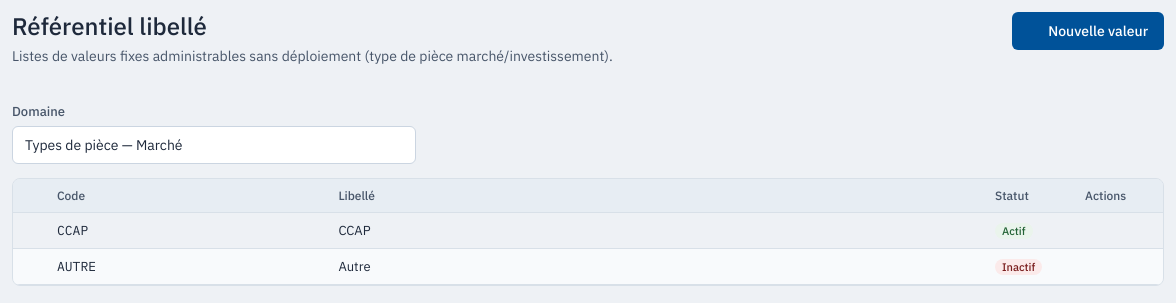
Test: LibelleReferentiel › bascule sur le domaine investissement au changement de sélecteur
Click the button with aria-label "Domaine" at (104, 145), box [12,126,416,164]
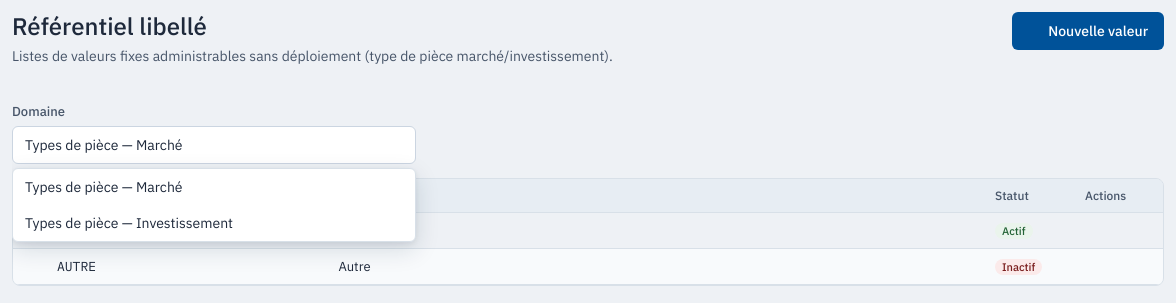
Click the text "Types de pièce — Investissement" at (129, 223), box [25,214,233,232]
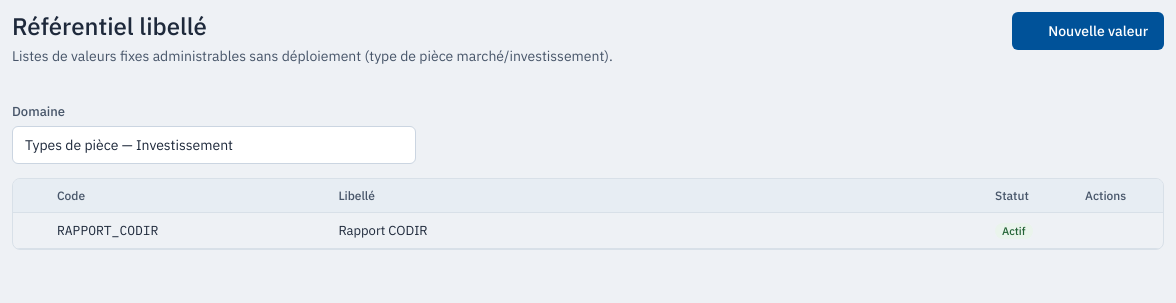
Result: the text "Rapport CODIR" is shown at [326,213,983,249]
Result: the text "CCAP" is gone
